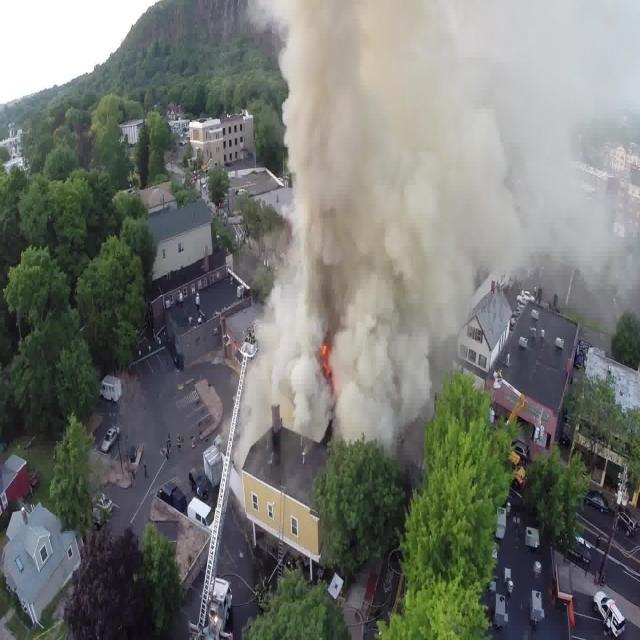Fire: (316, 339, 344, 391)
Smoke: (238, 0, 640, 451)
